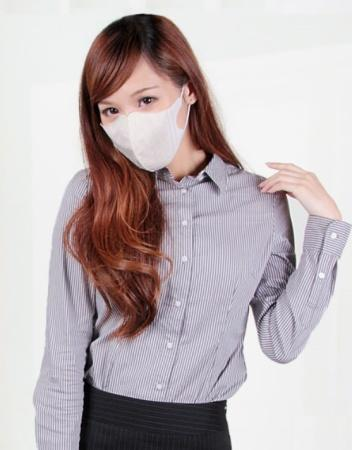OK: (98, 80, 186, 168)
